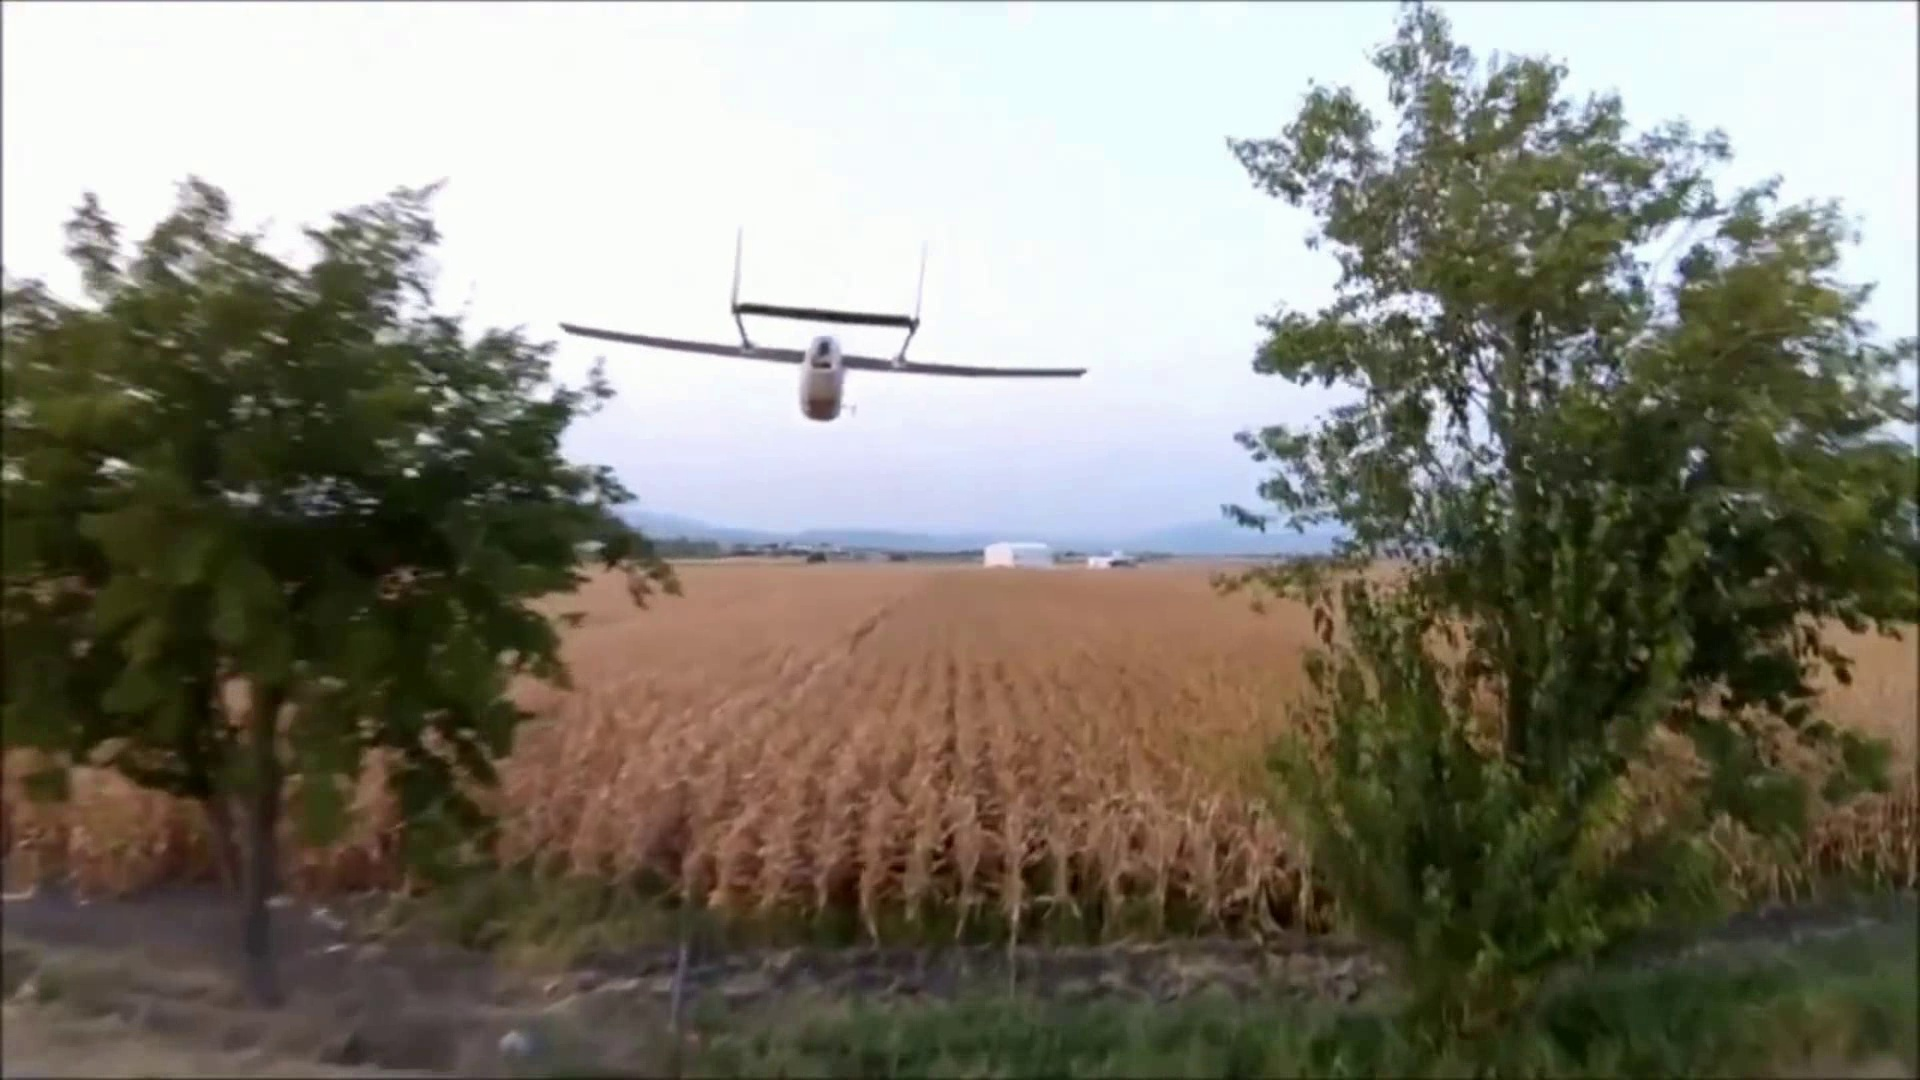airplane: (560, 225, 1088, 421)
